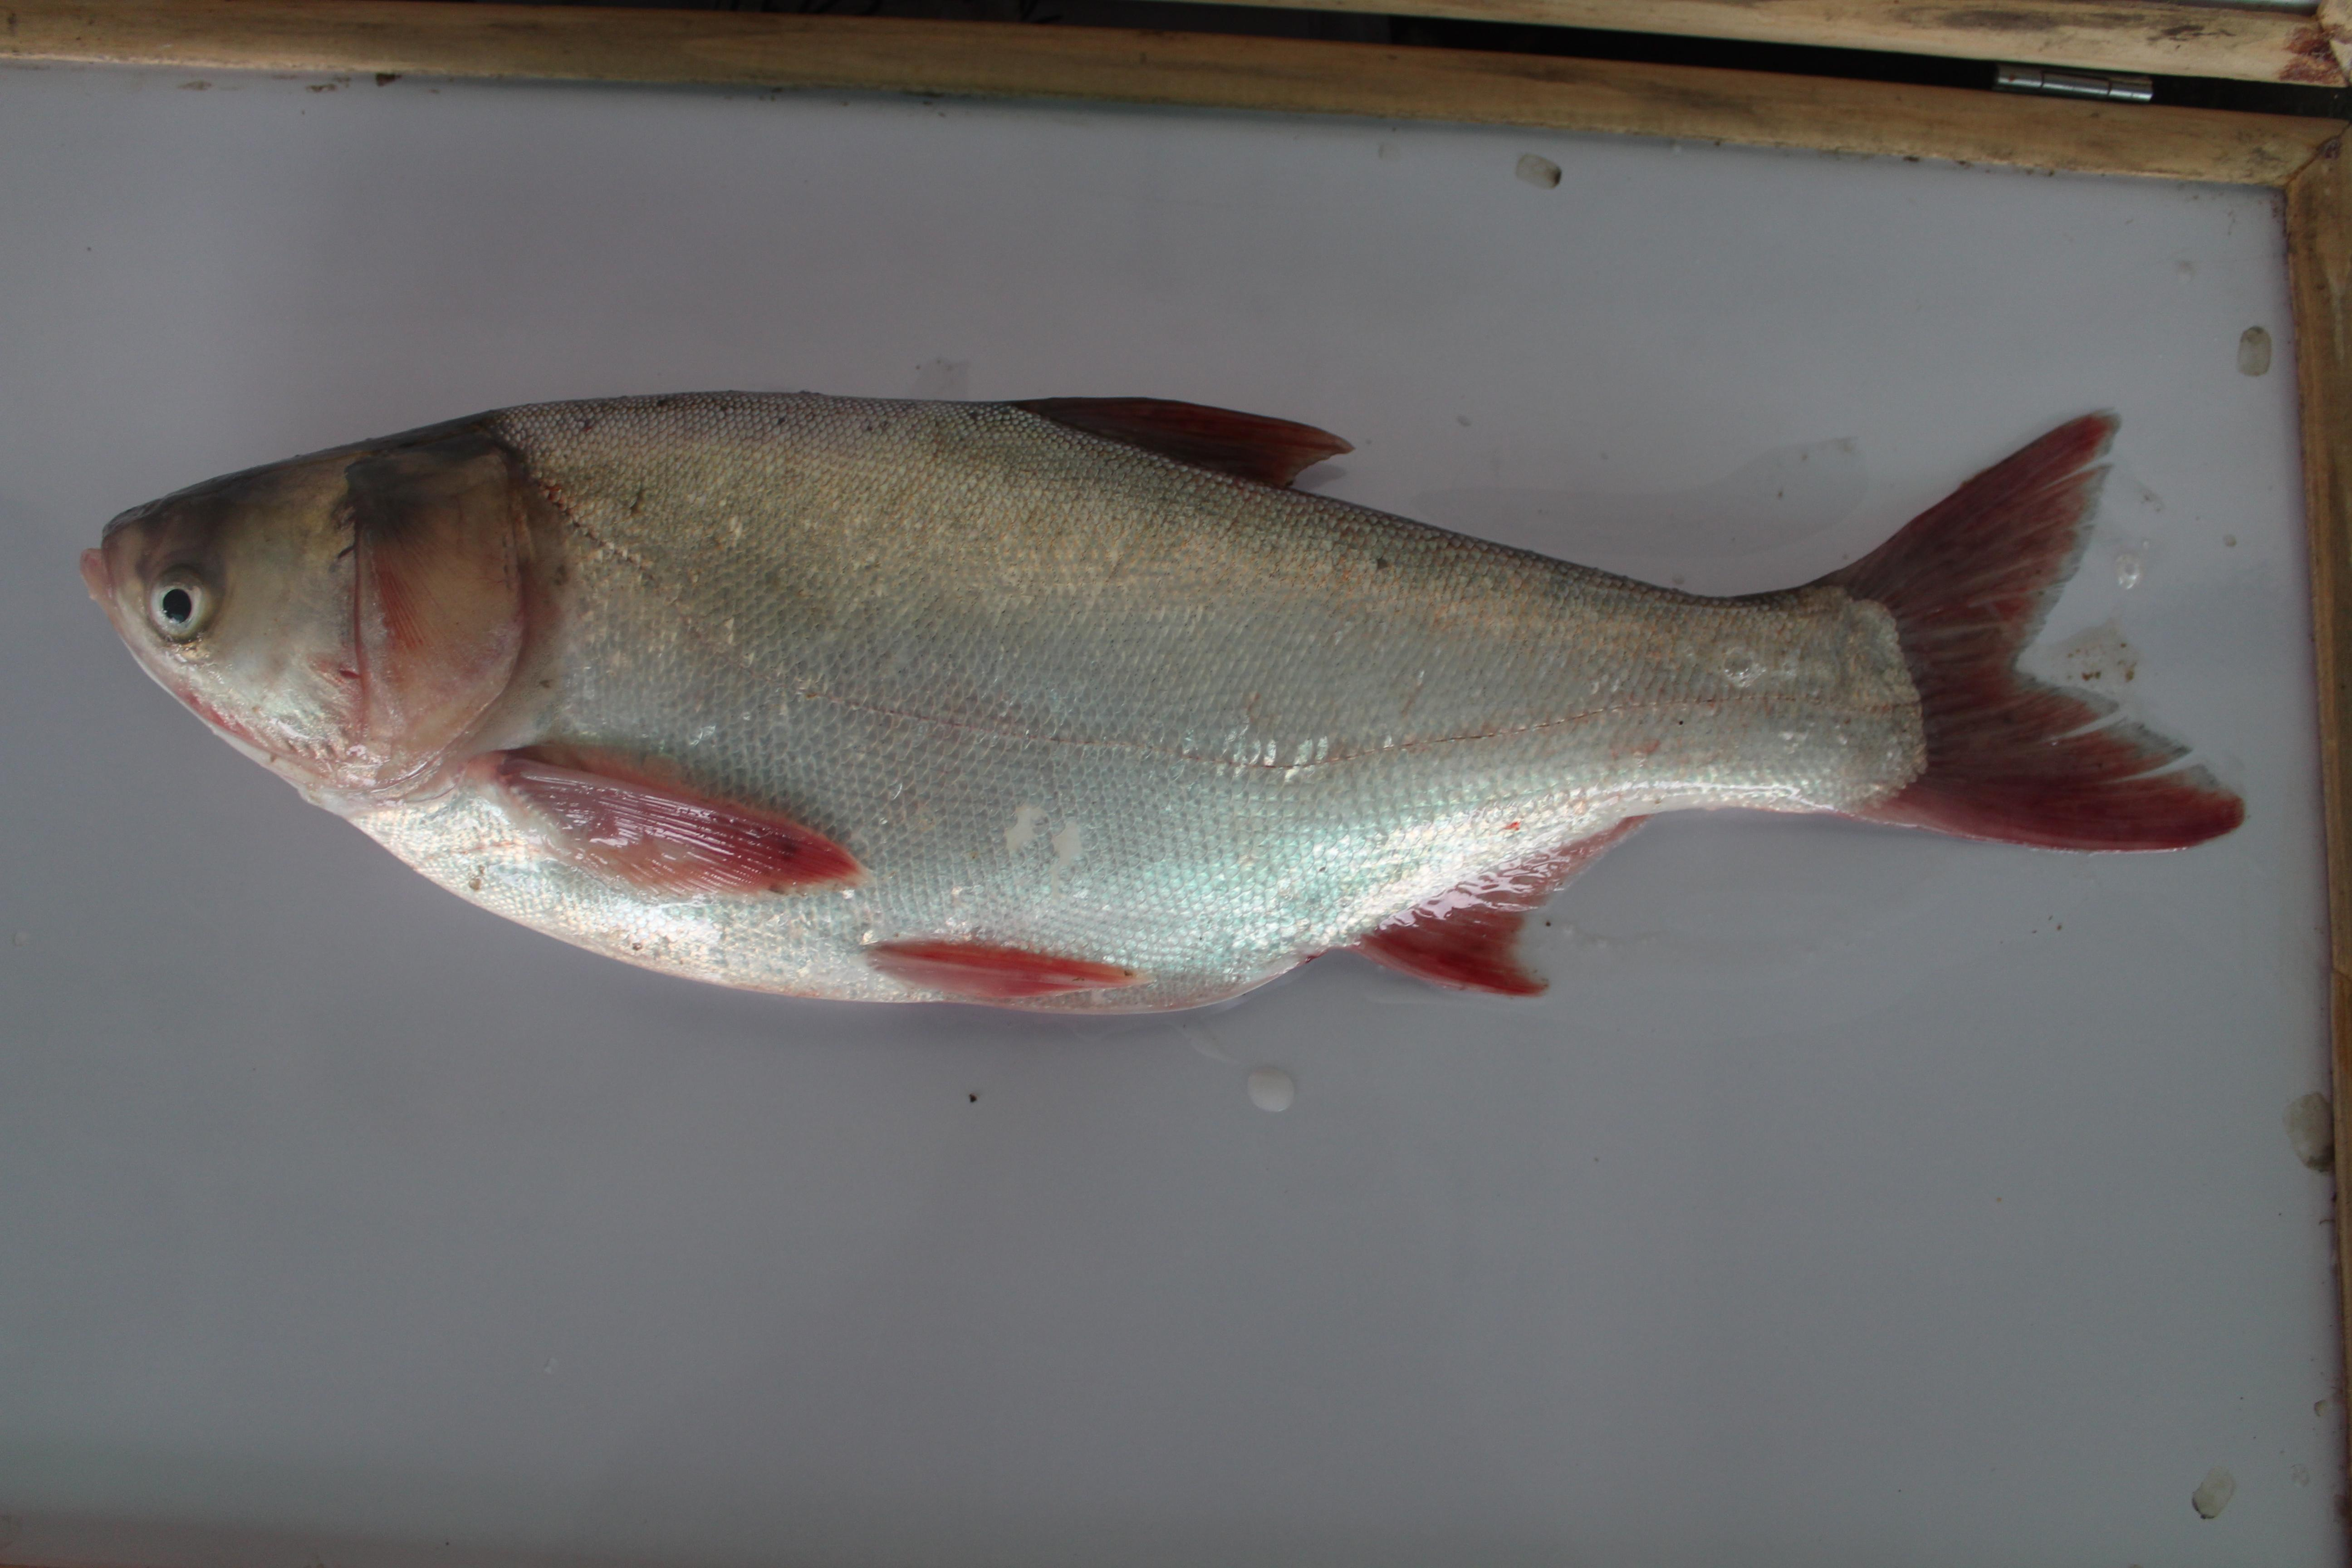Silver Carp: (79, 396, 2247, 1017)
